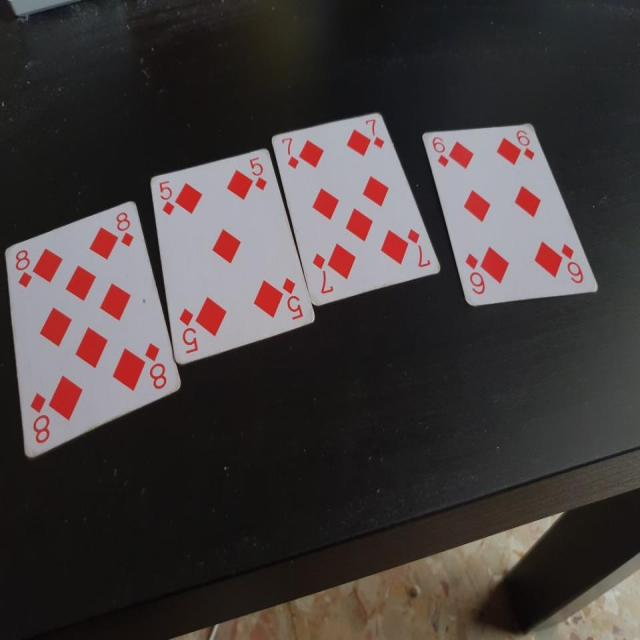5 Diamonds: (149, 148, 317, 369)
6 Diamonds: (420, 121, 599, 306)
7 Diamonds: (268, 109, 441, 306)
8 Diamonds: (3, 202, 185, 454)
